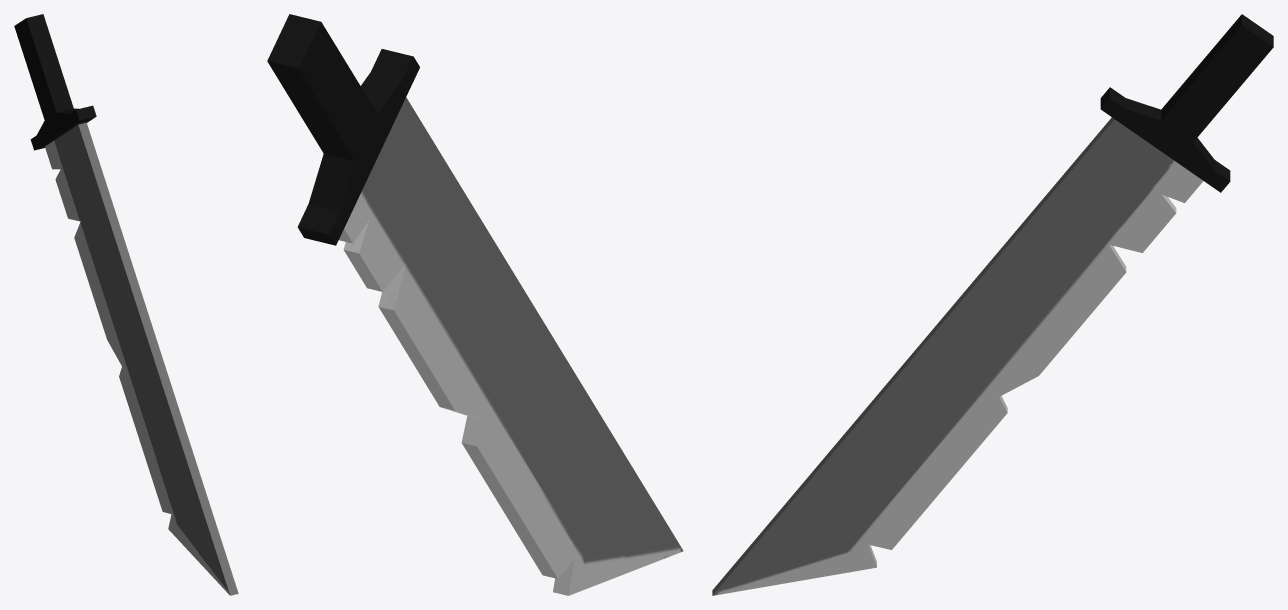
Rendered from SM_Sword.fbx.
The picture shows the model from 3 angles, left to right: view 1: azimuth 30°, elevation 25°; view 2: azimuth 150°, elevation 25°; view 3: azimuth 270°, elevation 25°; orthographic projection. The views are drawn at different scales.
Parts seen in each view (by area): view 1: Sword; view 2: Sword; view 3: Sword.
Part boxes in pixels (left/top/right/bottom): Sword: left=14, top=14, right=238, bottom=595; Sword: left=267, top=14, right=683, bottom=595; Sword: left=712, top=14, right=1273, bottom=595.
Size of the model in its own units: 6.97 by 168 by 149.
